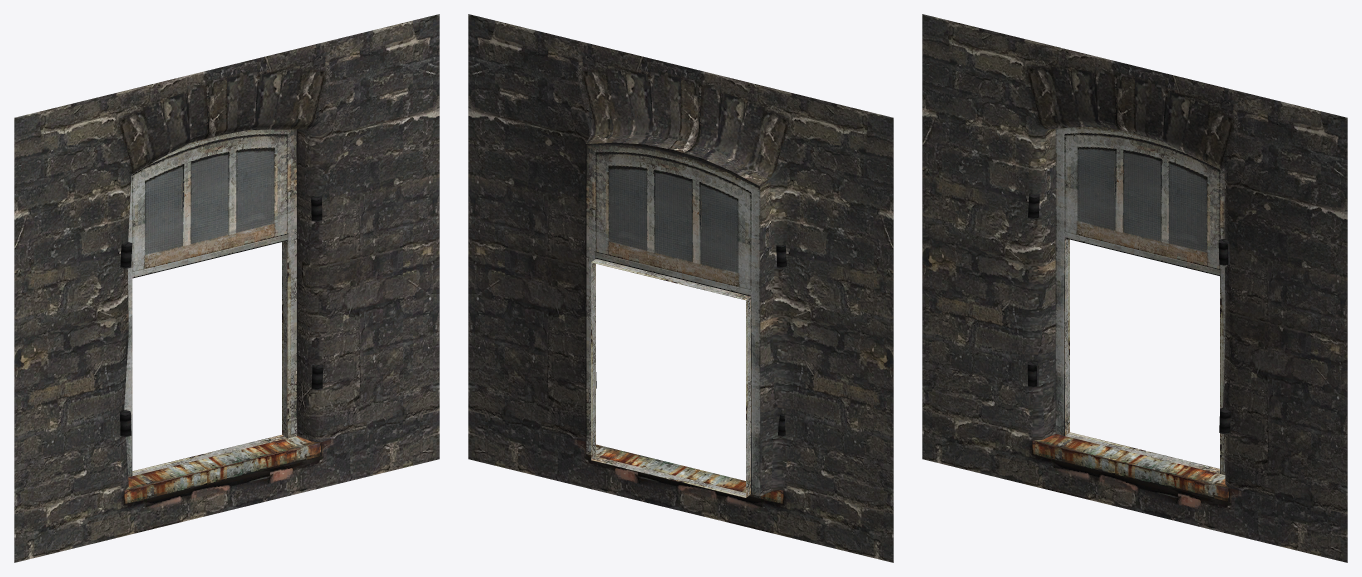
Rendered from factory_facade_01_open.DAE.
The picture shows the model from 3 angles, left to right: view 1: azimuth 30°, elevation 25°; view 2: azimuth 150°, elevation 25°; view 3: azimuth 330°, elevation 25°; orthographic projection.
Parts seen in each view (by area): view 1: Object017, Box013, Object030; view 2: Object017, Box013; view 3: Object017, Box013, Object030.
Part boxes in pixels (x1=…): Object017: x1=14, y1=14, x2=439, y2=516; Box013: x1=14, y1=39, x2=439, y2=562; Object030: x1=120, y1=196, x2=323, y2=437; Object017: x1=468, y1=14, x2=893, y2=516; Box013: x1=468, y1=39, x2=893, y2=562; Object017: x1=922, y1=14, x2=1347, y2=516; Box013: x1=922, y1=37, x2=1347, y2=562; Object030: x1=1027, y1=193, x2=1230, y2=434.
Size of the model in its own units: 4 by 4 by 0.3318.
